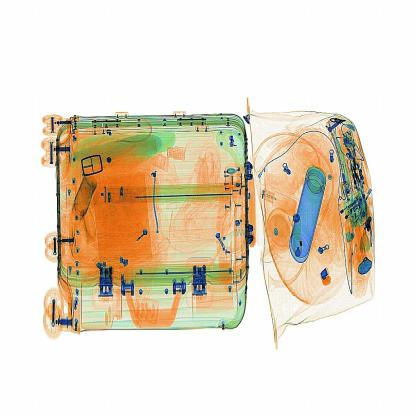wrench: (319, 264, 338, 288)
